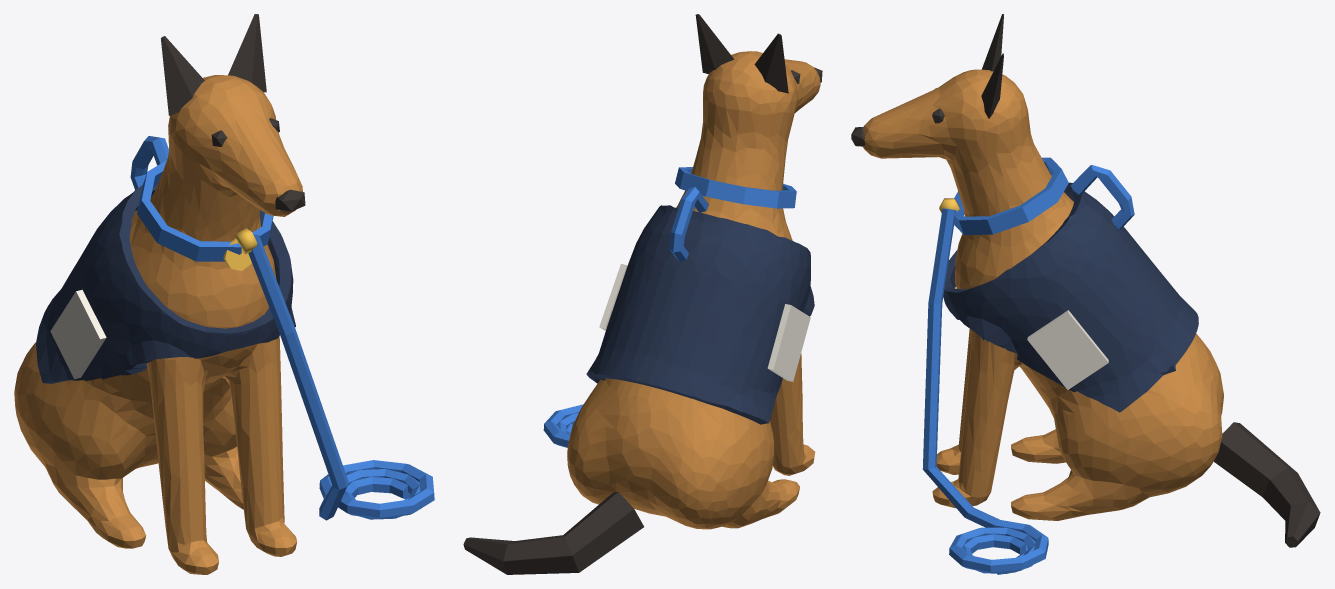
The model's file is low-poly-police-dog.glb.
3 renders of one model, left to right at view 1: azimuth 30°, elevation 25°; view 2: azimuth 150°, elevation 25°; view 3: azimuth 270°, elevation 25°, orthographic. The views are drawn at different scales.
Parts seen in each view (by area): view 1: Dog_Body, Vest, Leash, Collar, Vest_Patch_L, Ear_L, Ear_R, Vest_Handle, Nose; view 2: Dog_Body, Vest, Tail, Collar, Vest_Patch_L, Vest_Handle, Ear_L, Ear_R, Leash, Vest_Patch_R; view 3: Dog_Body, Vest, Leash, Tail, Vest_Patch_R, Collar, Vest_Handle, Ear_R.
Part boxes in pixels (x1,y1,x2,y2): Dog_Body: (14,75,302,574); Vest: (36,185,295,383); Leash: (248,234,434,520); Collar: (137,160,273,261); Vest_Patch_L: (50,289,106,379); Ear_L: (161,36,204,115); Ear_R: (228,14,266,92); Vest_Handle: (130,136,168,190); Nose: (275,189,305,211); Dog_Body: (567,51,820,529); Vest: (586,205,814,424); Tail: (463,492,643,574); Collar: (675,167,796,208); Vest_Patch_L: (767,304,810,381); Vest_Handle: (669,187,708,261); Ear_L: (754,33,788,93); Ear_R: (695,14,734,73); Leash: (543,404,583,447); Vest_Patch_R: (599,263,627,330); Dog_Body: (862,69,1223,520); Vest: (943,182,1198,412); Leash: (922,208,1048,574); Tail: (1214,422,1320,547); Vest_Patch_R: (1027,310,1108,389); Collar: (953,157,1068,235); Vest_Handle: (1070,165,1134,229); Ear_R: (981,53,1003,118).
Bounding box in the file's own units: 2.03 × 3.21 × 2.96.
